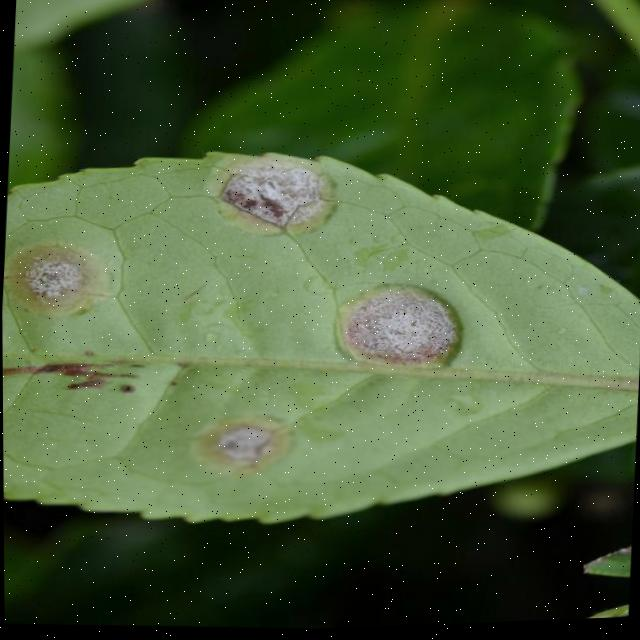Tea cake: (343, 270, 458, 381), (178, 400, 291, 482), (204, 155, 320, 231), (10, 229, 100, 315)
